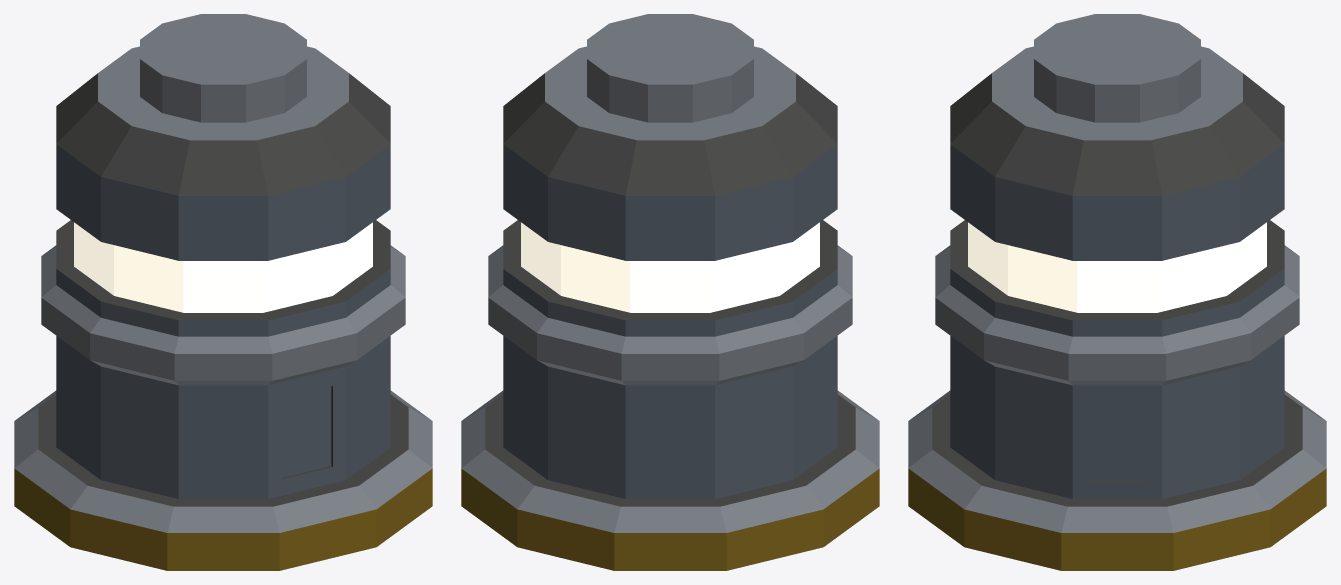
File: inertial_dampers.glb
3 renders of one model, left to right at view 1: azimuth 30°, elevation 25°; view 2: azimuth 150°, elevation 25°; view 3: azimuth 270°, elevation 25°, orthographic.
Visible parts, largest first — view 1: inertial_dampers; view 2: inertial_dampers; view 3: inertial_dampers.
Part boxes in pixels (box(x1,y1,x2,y2)): inertial_dampers: box(14, 14, 432, 570); inertial_dampers: box(461, 14, 879, 570); inertial_dampers: box(908, 14, 1326, 570).
Bounding box in the file's own units: 1.4 × 1.6 × 1.4.
